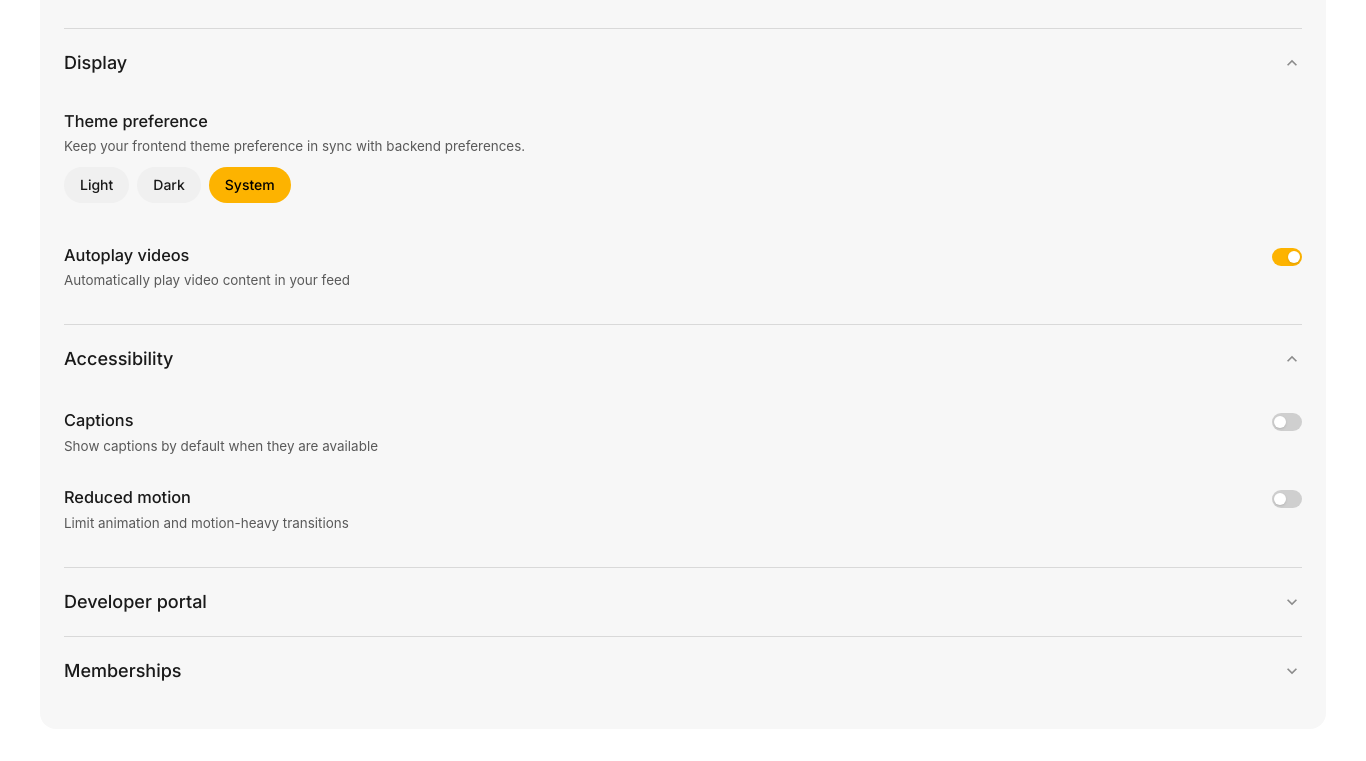
Settings › cancels an active membership from the memberships workspace
(page scrolled)
Click the button "Memberships". click: {"x": 123, "y": 671}
box: [64,637,1302,705]
(page scrolled)
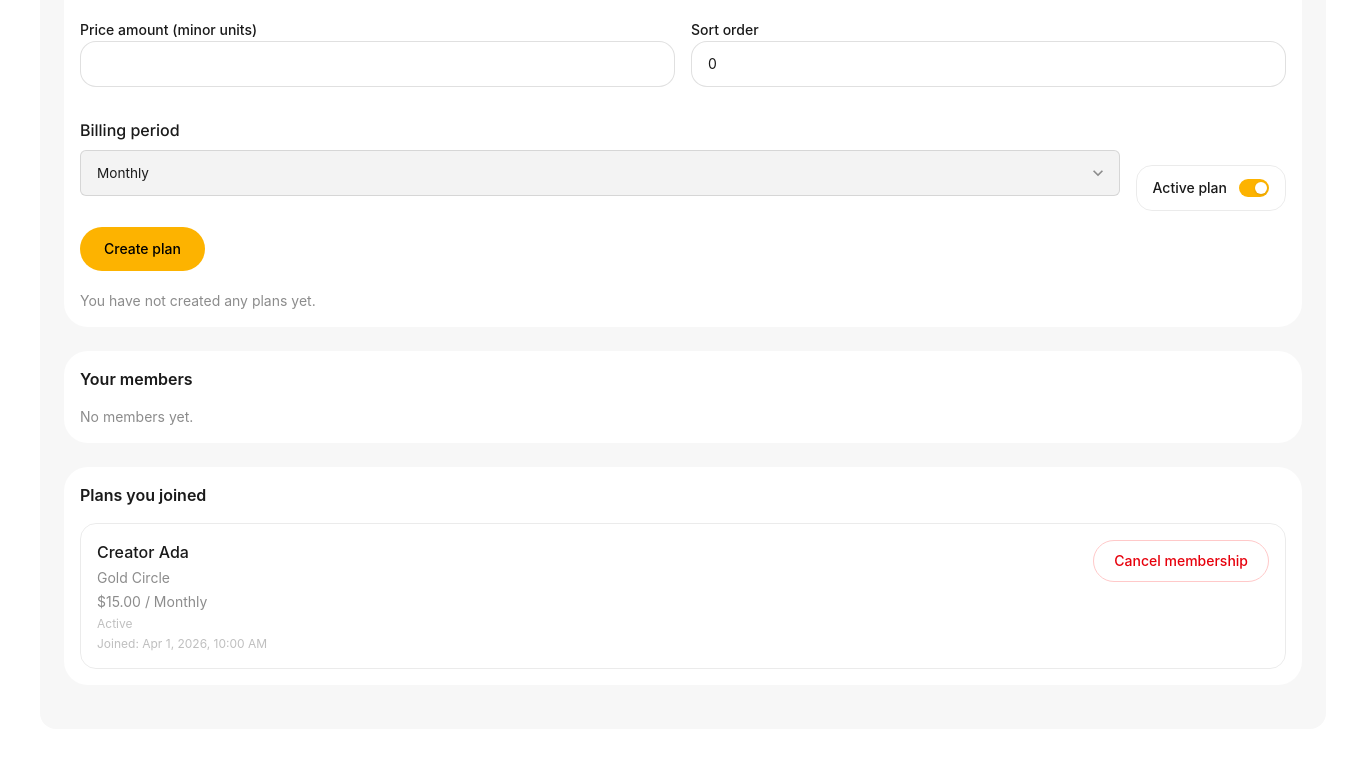
Now the text "Creator Ada" is shown, box [97,542,189,562]
Click the button "Cancel membership". click: {"x": 1181, "y": 561}
box: [1093,540,1269,582]
(page scrolled)
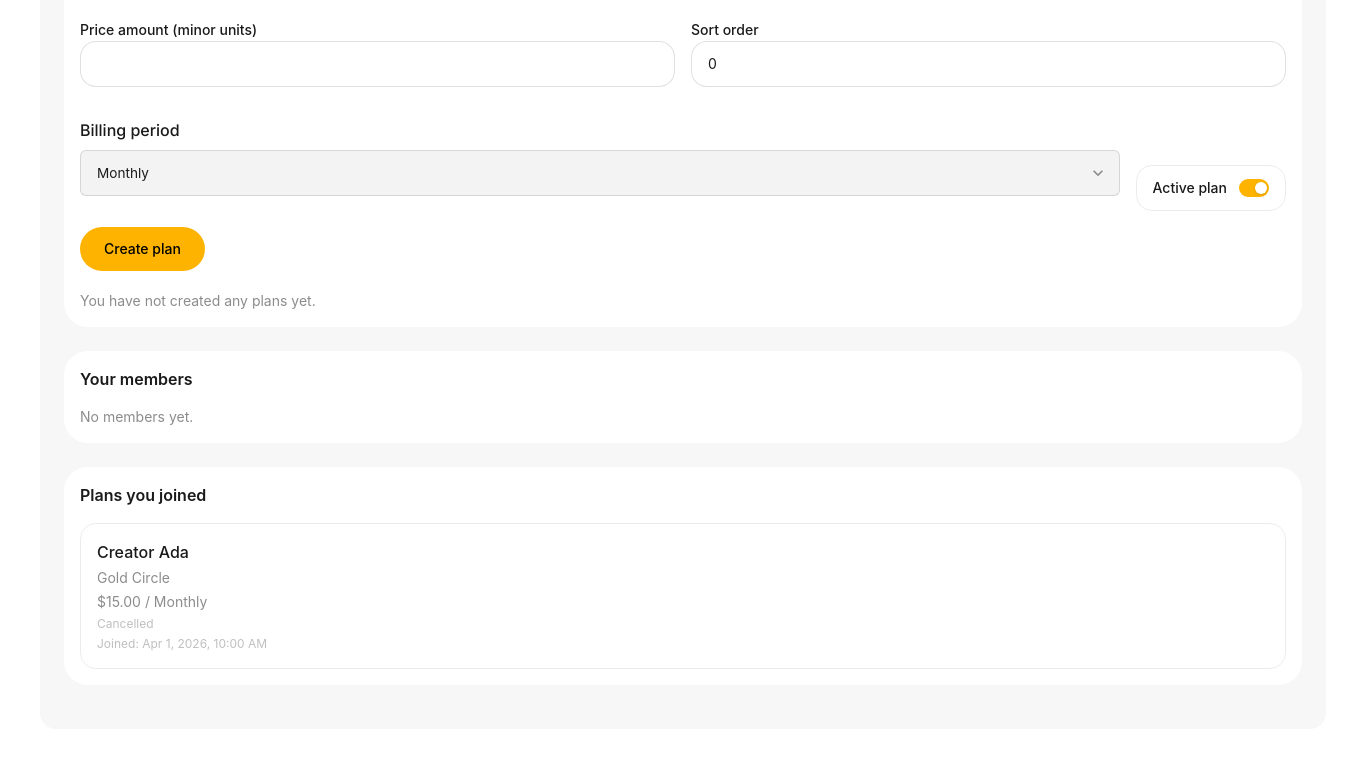
Now the text "Cancelled" is shown, box [97,616,154,631]
Now the button "Cancel membership" is gone
